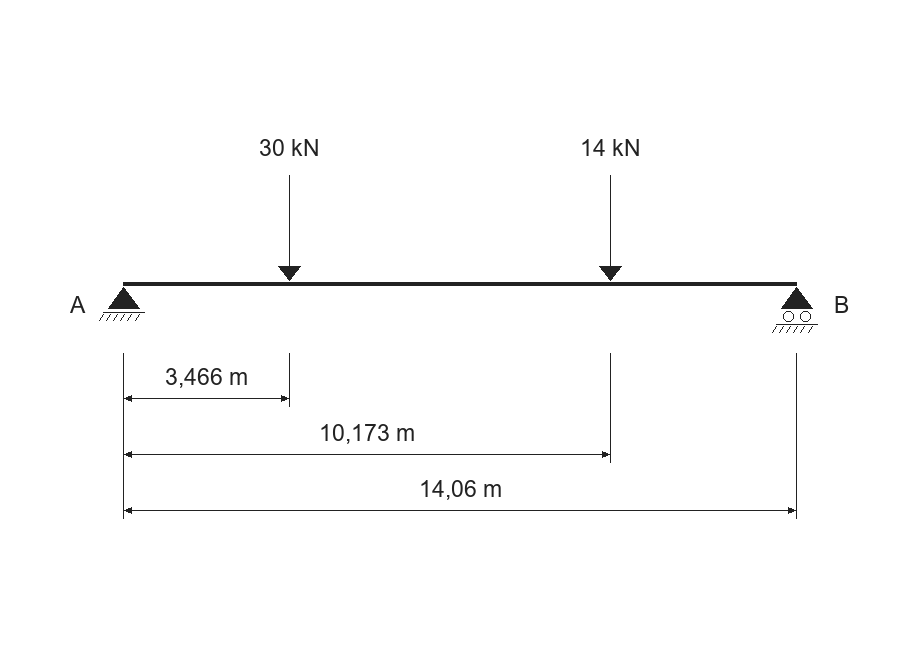pin_support: (99, 287, 145, 321)
point_load: (278, 175, 301, 281), (599, 175, 622, 281)
roller_support: (772, 287, 818, 333)
